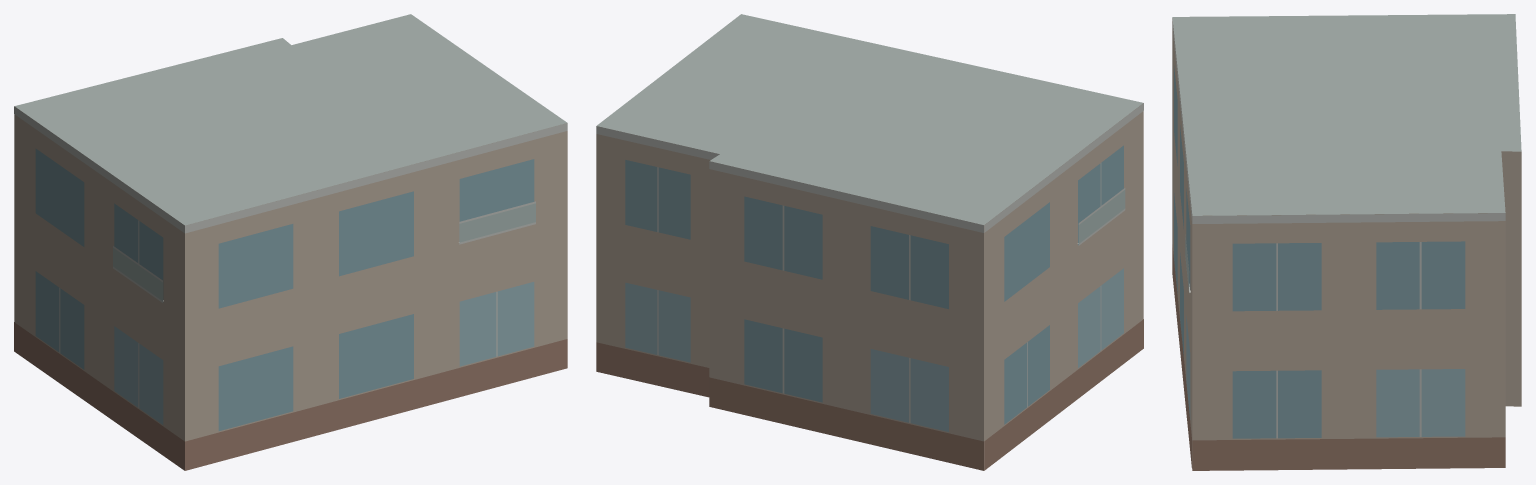
The model's file is survey-upis-32494952.glb.
3 views of the same model, side by side, from view 1: azimuth 30°, elevation 25°; view 2: azimuth 150°, elevation 25°; view 3: azimuth 270°, elevation 25° (orthographic). The views are drawn at different scales.
Parts seen in each view (by area): view 1: survey-upis-32494952.tmp; view 2: survey-upis-32494952.tmp; view 3: survey-upis-32494952.tmp.
Part boxes in pixels (bbox=[...]): survey-upis-32494952.tmp: bbox=[14, 14, 567, 470]; survey-upis-32494952.tmp: bbox=[596, 14, 1143, 470]; survey-upis-32494952.tmp: bbox=[1172, 14, 1521, 470].
Bounding box in the file's own units: 12.83 × 7.55 × 9.38.
